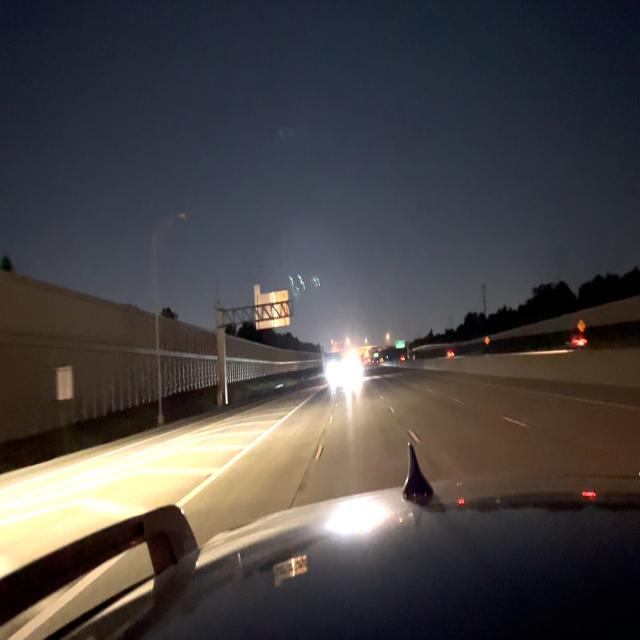back-of-sign: (255, 291, 289, 329), (57, 367, 73, 398), (254, 285, 261, 295)
